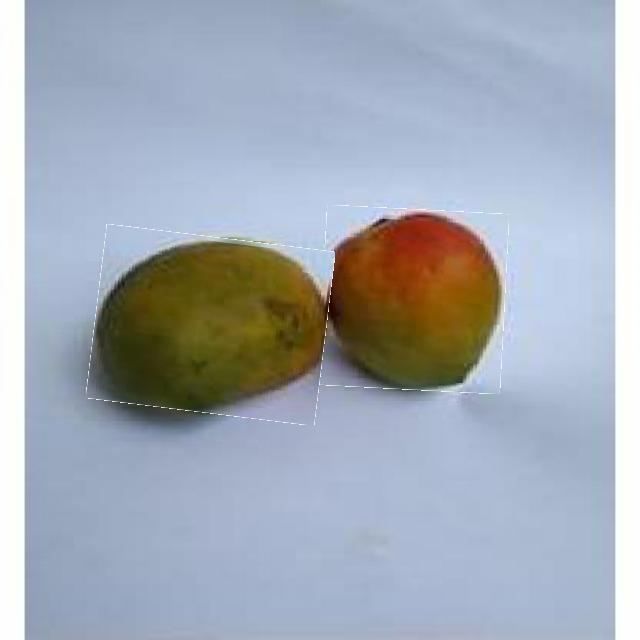mango: (91, 230, 331, 419), (321, 208, 507, 392)
